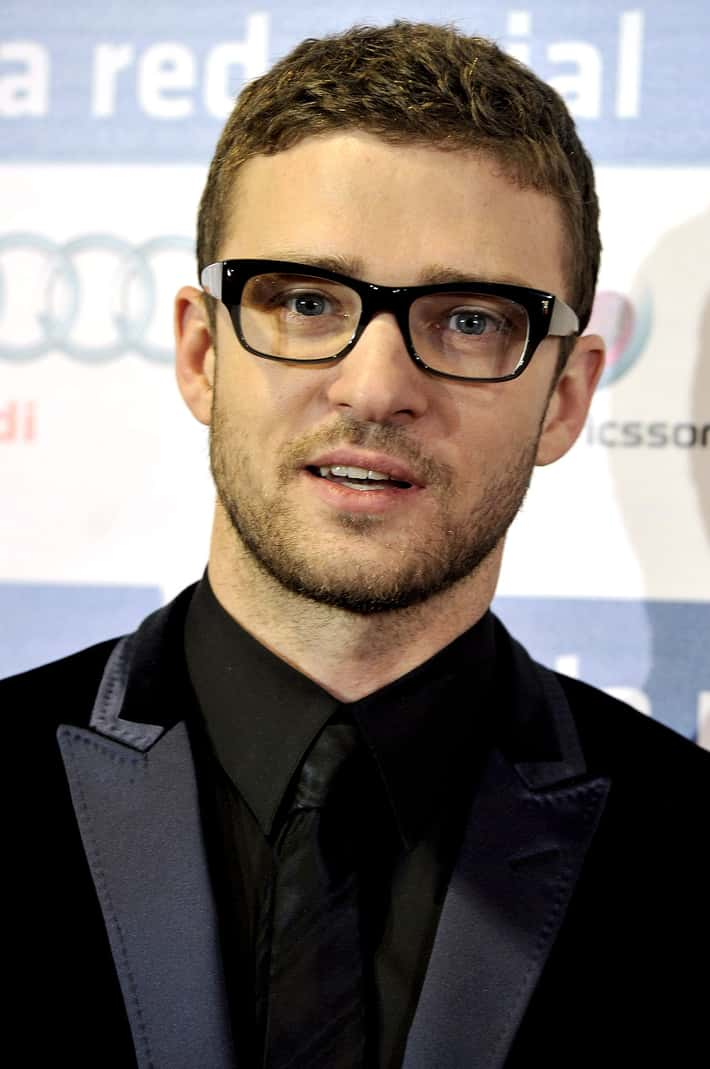Glasses: (175, 247, 596, 401)
